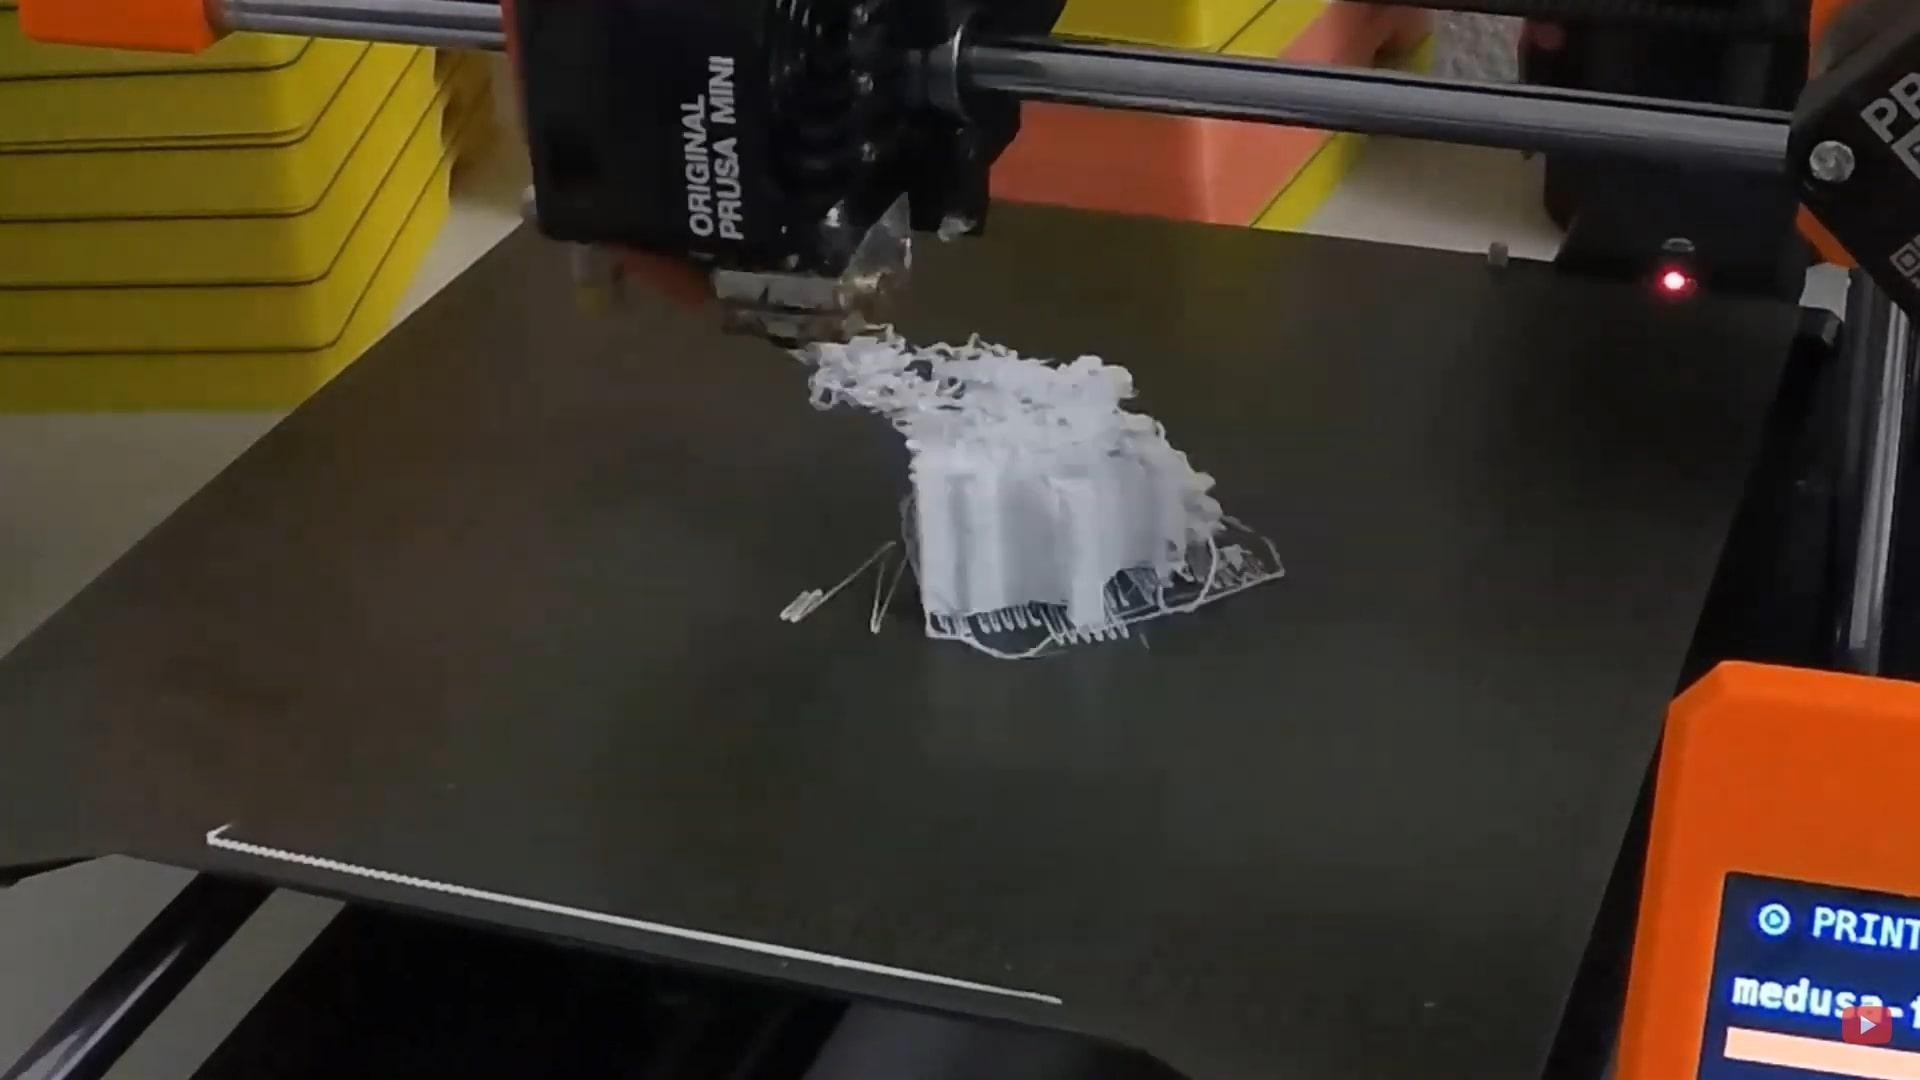Printing-Artifact: (798, 307, 1010, 451)
